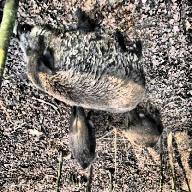boar: (0, 4, 191, 118), (47, 116, 111, 190), (118, 92, 189, 157)
